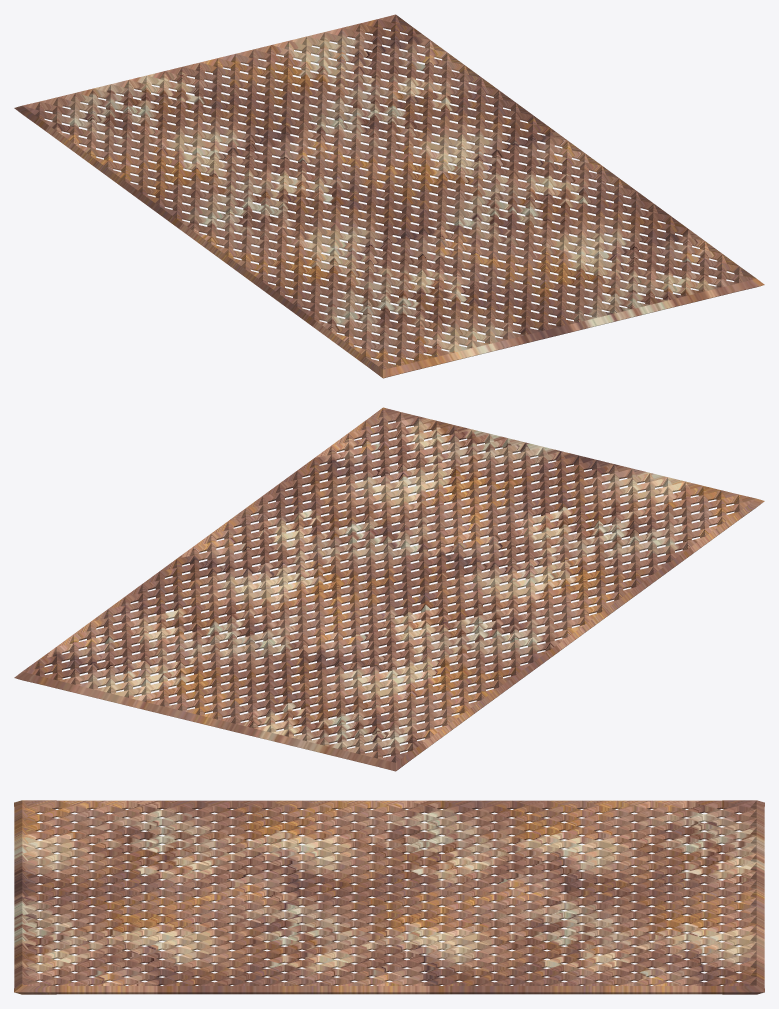
The model's file is Scrap_parts_metal_scrap2.0.glb.
3 views of the same model, one above another, from view 1: azimuth 30°, elevation 25°; view 2: azimuth 150°, elevation 25°; view 3: azimuth 270°, elevation 25° (orthographic).
Parts seen in each view (by area): view 1: Plane.002; view 2: Plane.002; view 3: Plane.002.
Part boxes in pixels (x1=…): Plane.002: x1=14, y1=14, x2=764, y2=378; Plane.002: x1=14, y1=407, x2=764, y2=771; Plane.002: x1=14, y1=800, x2=764, y2=994.
Bounding box in the file's own units: 2.04 × 0.0447 × 3.42.
Materials: 1 (1 with a texture image).
